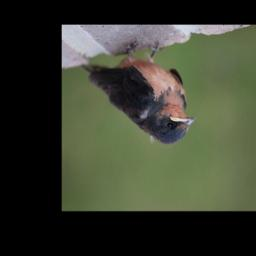Swallow: (81, 39, 196, 146)
